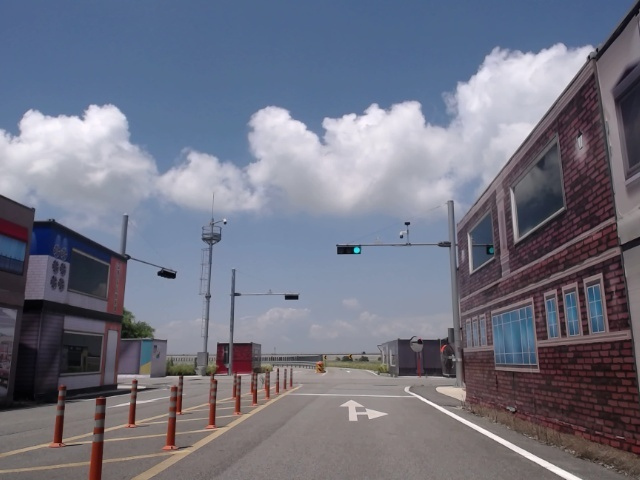green_3: (338, 247, 361, 253)
